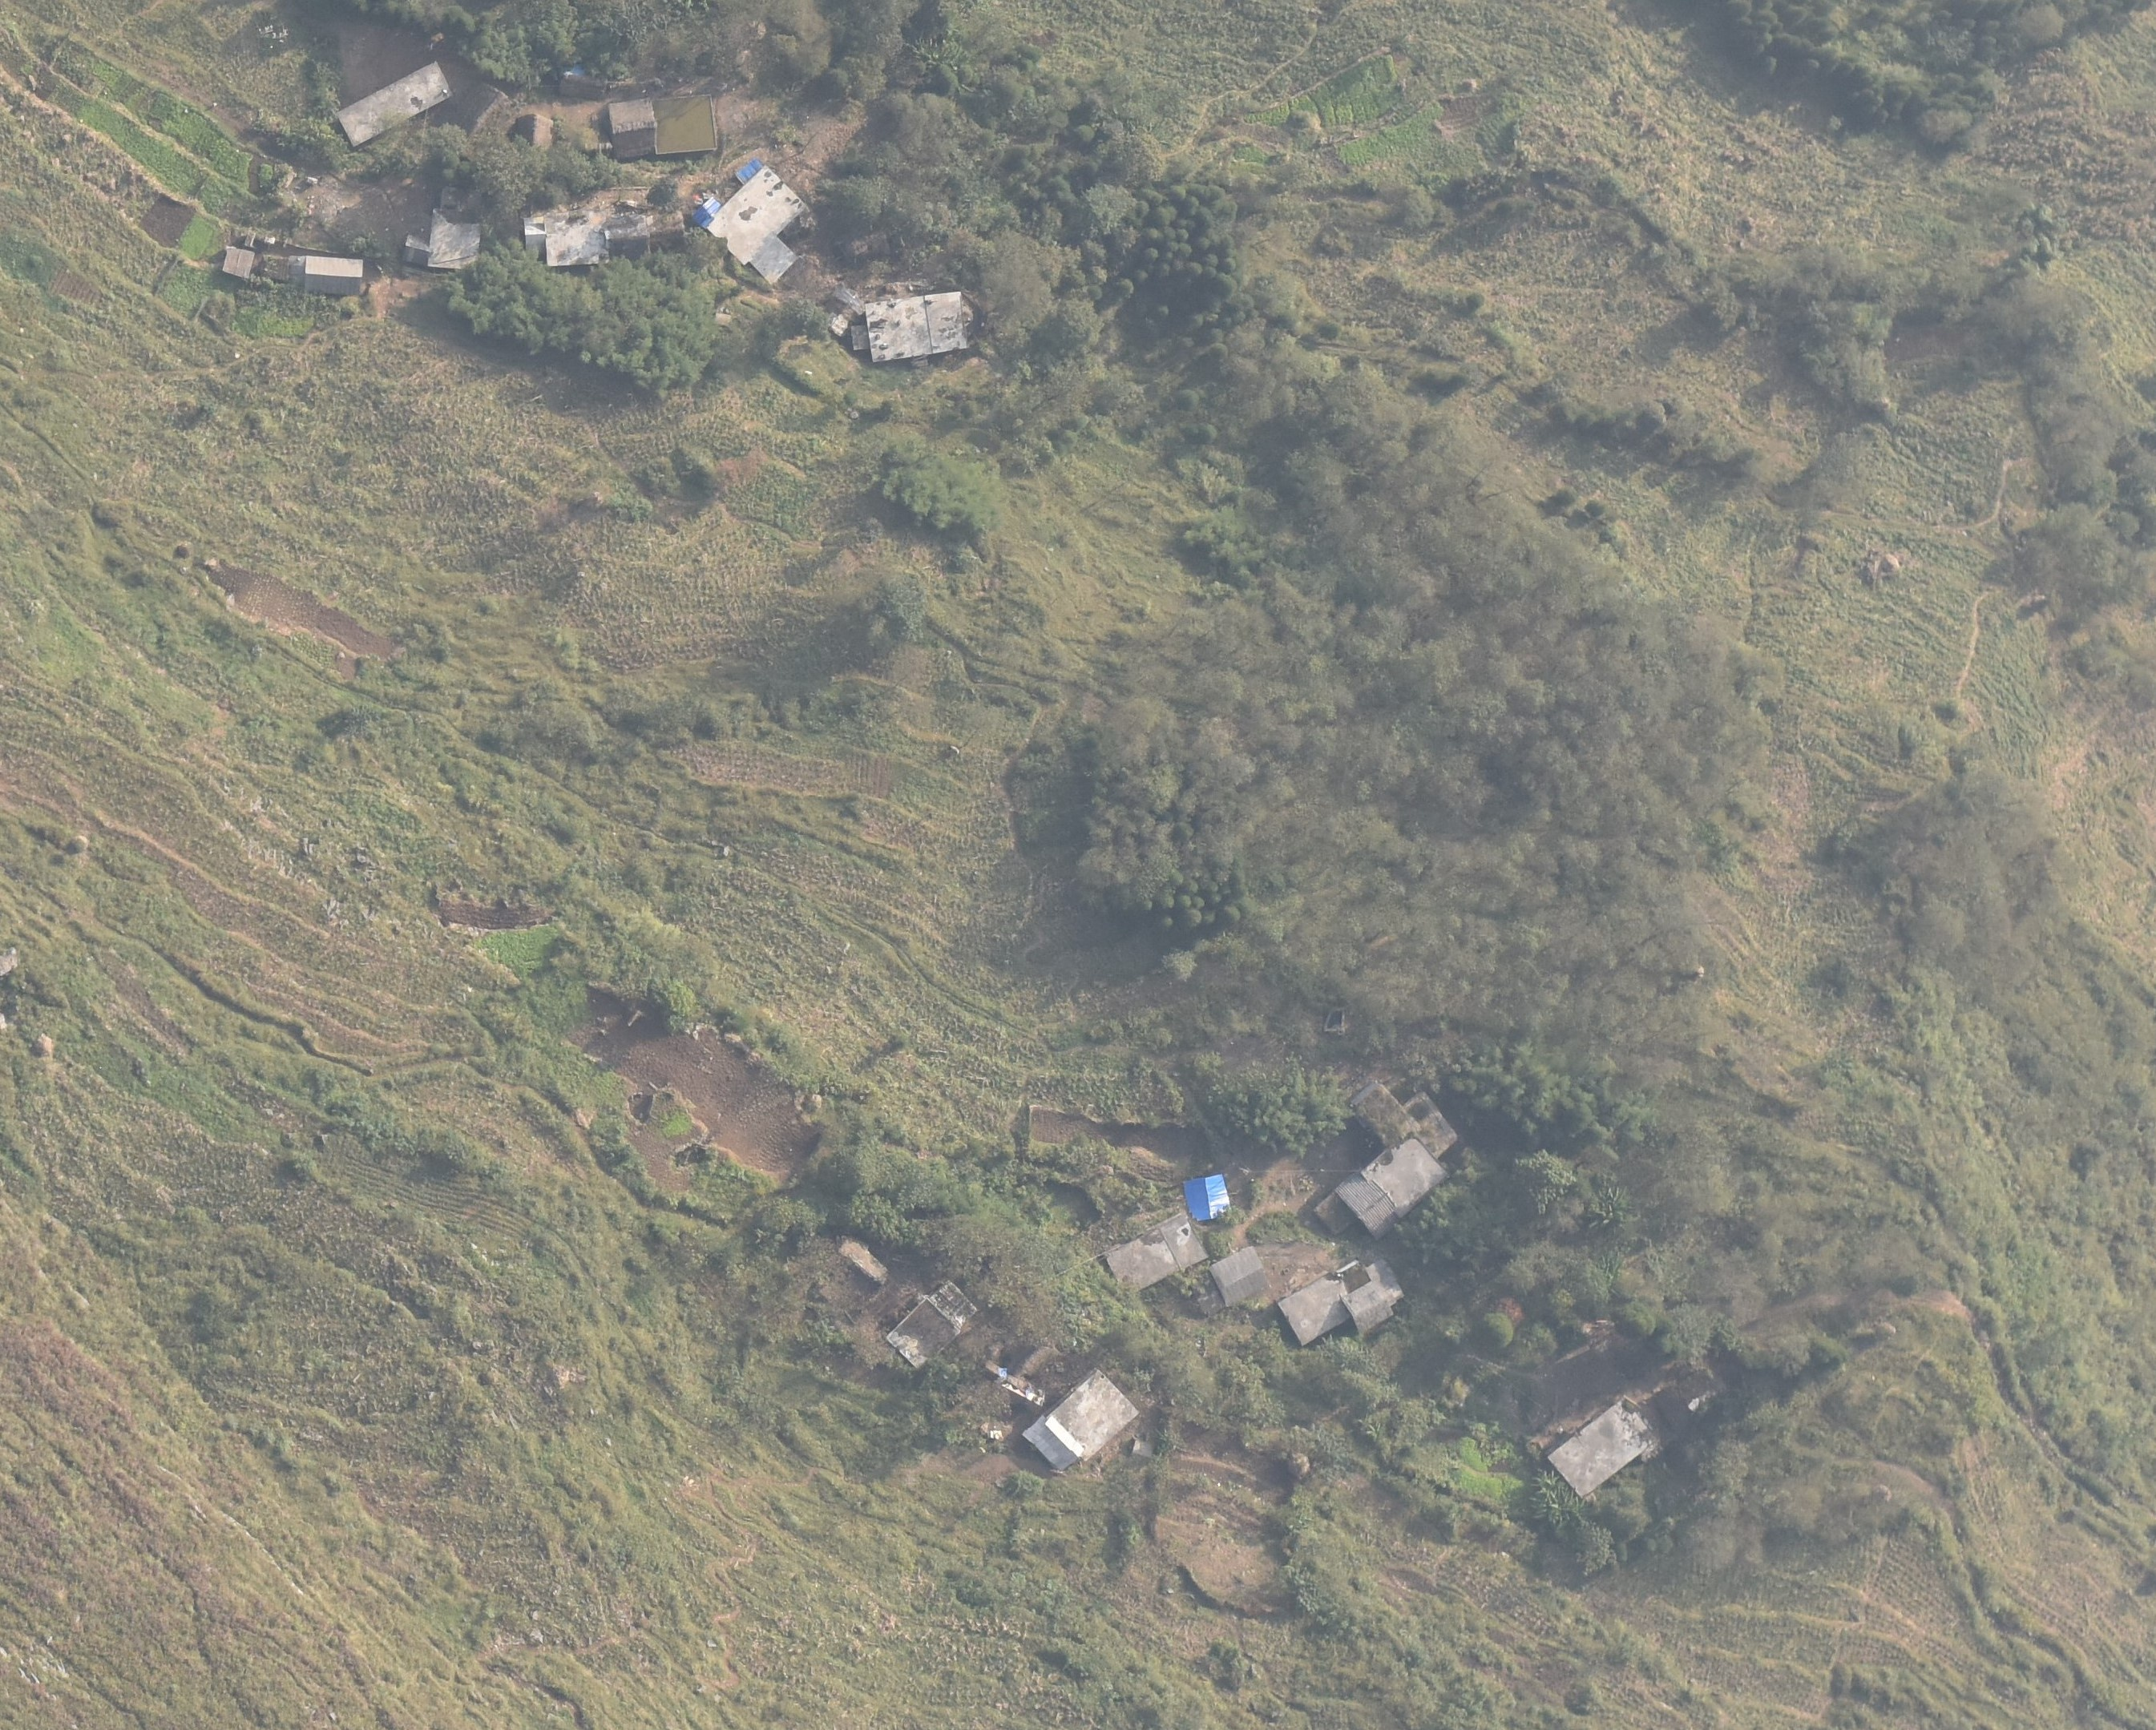building: (1335, 1135, 1456, 1248), (1028, 1364, 1144, 1473), (707, 164, 807, 286), (1547, 1392, 1661, 1497), (1278, 1261, 1412, 1347), (334, 54, 451, 147), (848, 288, 971, 364), (1105, 1211, 1206, 1297), (886, 1279, 978, 1369), (1343, 1079, 1426, 1151), (450, 71, 519, 152), (645, 91, 721, 162), (594, 92, 658, 163), (541, 209, 614, 268), (426, 206, 486, 277), (1399, 1089, 1459, 1159), (1210, 1244, 1271, 1307), (596, 207, 654, 266), (301, 252, 368, 296), (515, 107, 559, 166), (645, 210, 690, 253), (220, 245, 256, 281), (403, 232, 432, 267)
prefabricated-house: (1182, 1173, 1233, 1220), (521, 213, 550, 257), (691, 198, 725, 228), (735, 156, 765, 186)
